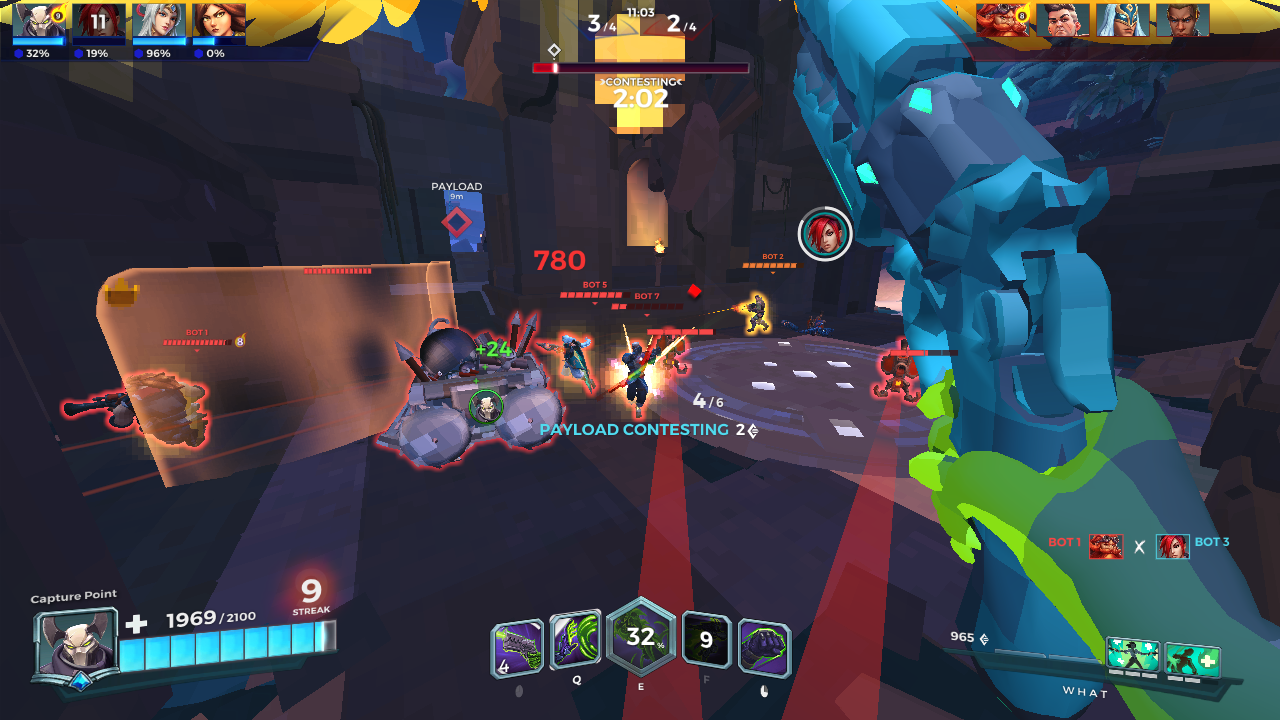model: (107, 365, 217, 458), (613, 326, 656, 430), (648, 323, 703, 378), (558, 330, 594, 398), (875, 346, 914, 401), (737, 291, 771, 336)
